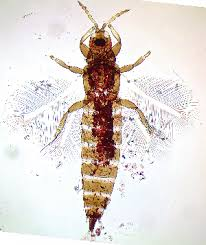Phlaeothripidae: (2, 1, 202, 235)
